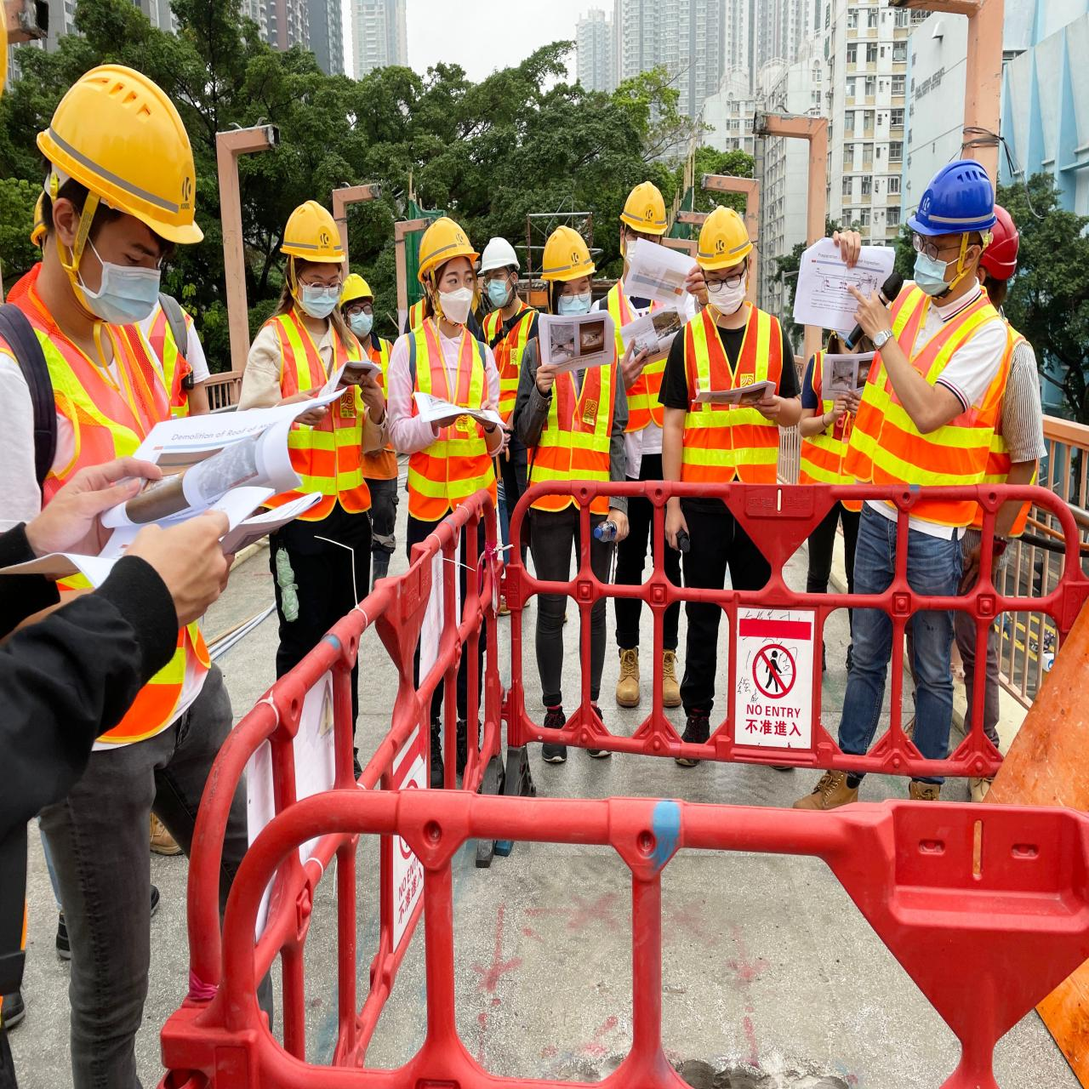Person: (0, 35, 259, 1089), (844, 148, 1011, 745), (234, 180, 382, 774), (654, 180, 791, 742), (390, 198, 507, 764), (529, 209, 633, 767), (602, 172, 694, 715), (785, 318, 857, 668), (470, 239, 542, 484), (340, 250, 386, 571)
Safety_Vest: (20, 283, 211, 756), (862, 281, 1003, 535), (257, 314, 365, 522), (405, 323, 494, 520), (682, 308, 780, 483), (533, 331, 606, 511), (612, 281, 678, 441), (798, 350, 849, 487), (480, 303, 535, 423), (357, 331, 398, 486)
